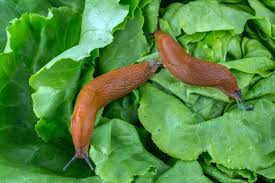slug: (63, 60, 158, 170), (155, 31, 245, 109)
